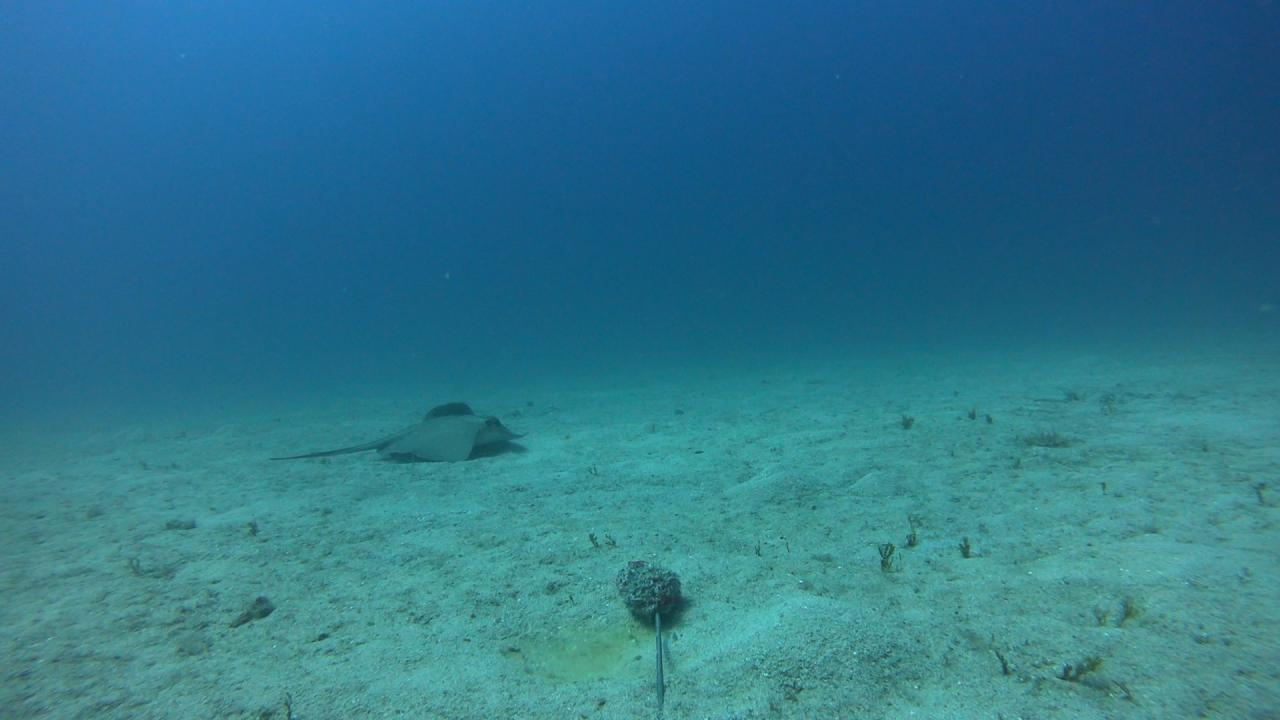dasyatis: (276, 400, 527, 461)
